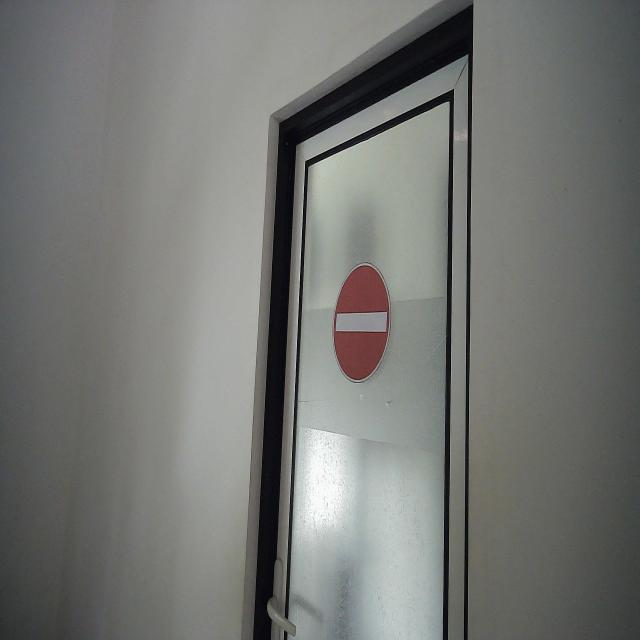no_entry: (332, 261, 393, 387)
